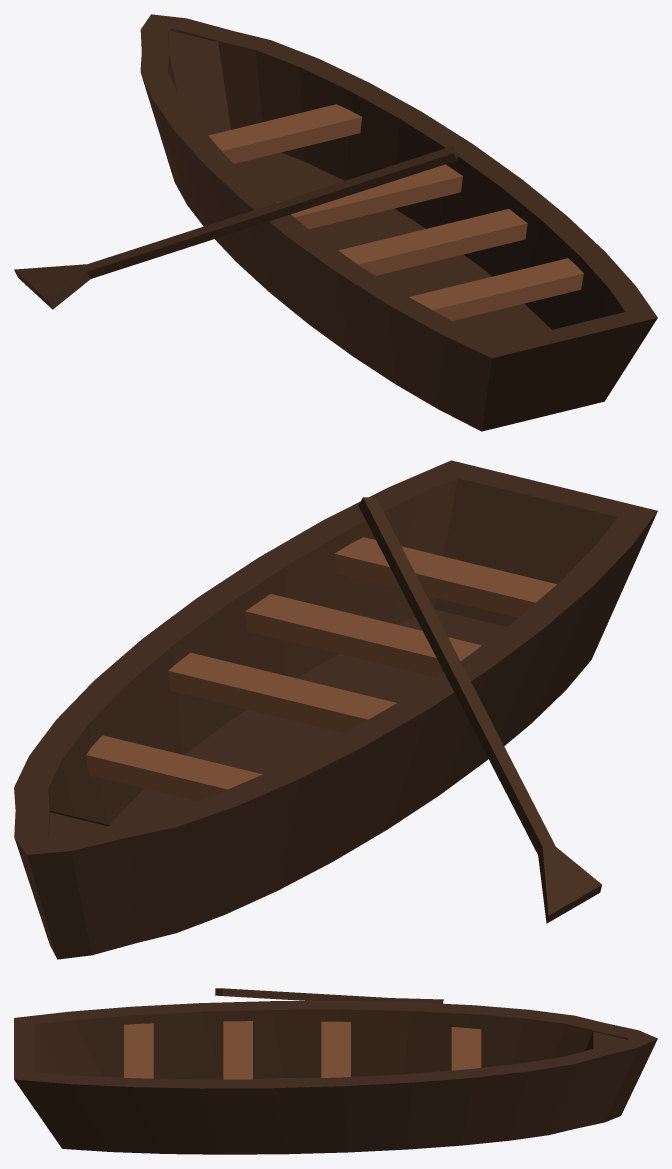
The model's file is boat1.fbx.
3 views of the same model, one above another, from view 1: azimuth 30°, elevation 25°; view 2: azimuth 150°, elevation 25°; view 3: azimuth 270°, elevation 25° (orthographic). The views are drawn at different scales.
Parts seen in each view (by area): view 1: Circle.001; view 2: Circle.001; view 3: Circle.001.
Part boxes in pixels (left/top/right/bottom): Circle.001: left=14, top=14, right=657, bottom=431; Circle.001: left=14, top=460, right=657, bottom=959; Circle.001: left=14, top=988, right=657, bottom=1154.
Bounding box in the file's own units: 3.36 × 1.52 × 6.18.
